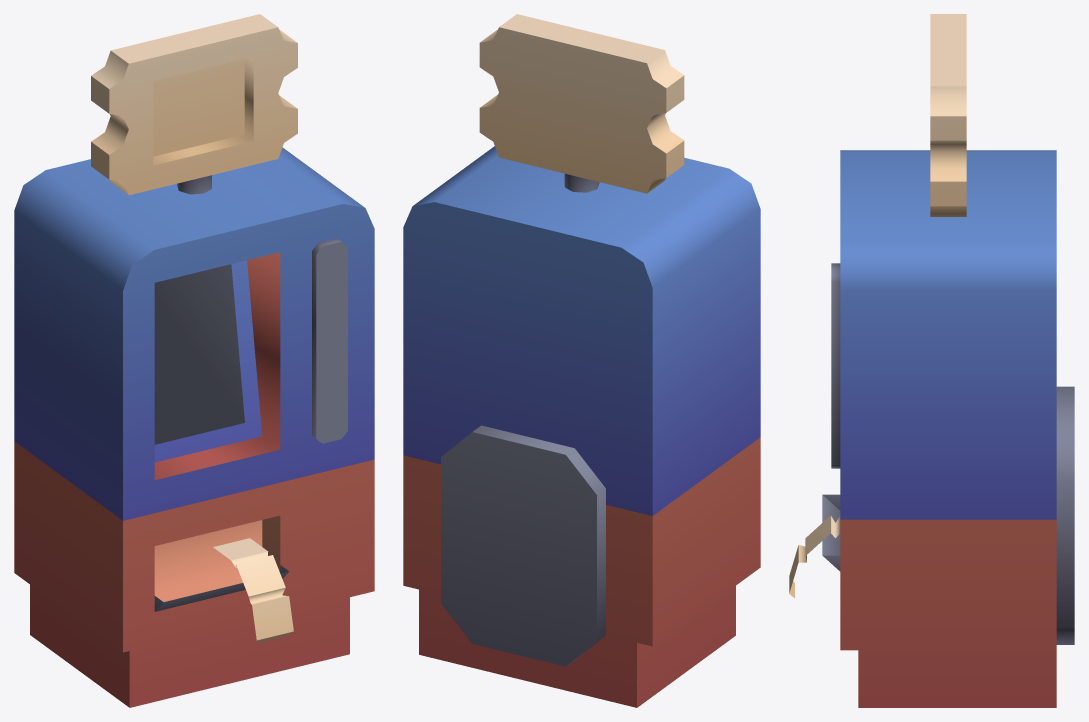
File: ticket-machine.obj
3 renders of one model, left to right at view 1: azimuth 30°, elevation 25°; view 2: azimuth 150°, elevation 25°; view 3: azimuth 270°, elevation 25°, orthographic.
Visible parts, largest first — view 1: ticket-machine, rotate-y; view 2: ticket-machine, rotate-y; view 3: ticket-machine, rotate-y.
Boxes of the visible parts, box(x1,y1,x2,y2) form: ticket-machine: box(14, 147, 374, 707); rotate-y: box(91, 14, 297, 195); ticket-machine: box(403, 146, 760, 707); rotate-y: box(479, 14, 684, 193); ticket-machine: box(789, 150, 1074, 707); rotate-y: box(930, 14, 966, 216).
Bounding box in the file's own units: 0.4 × 0.925 × 0.3958.
